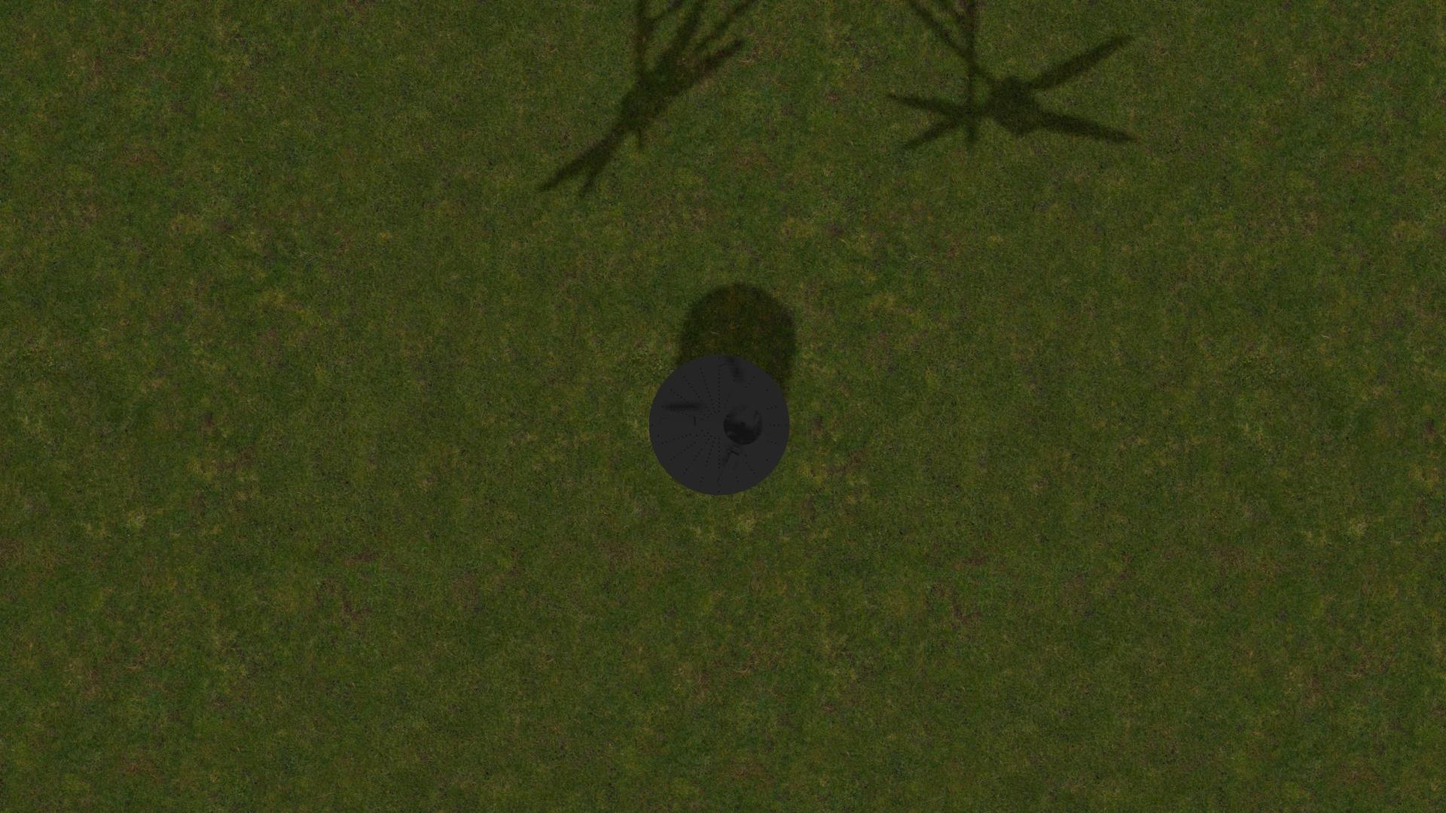alca: (715, 446, 741, 489), (717, 360, 741, 402), (656, 417, 700, 427)
armadilha: (649, 354, 790, 496)
